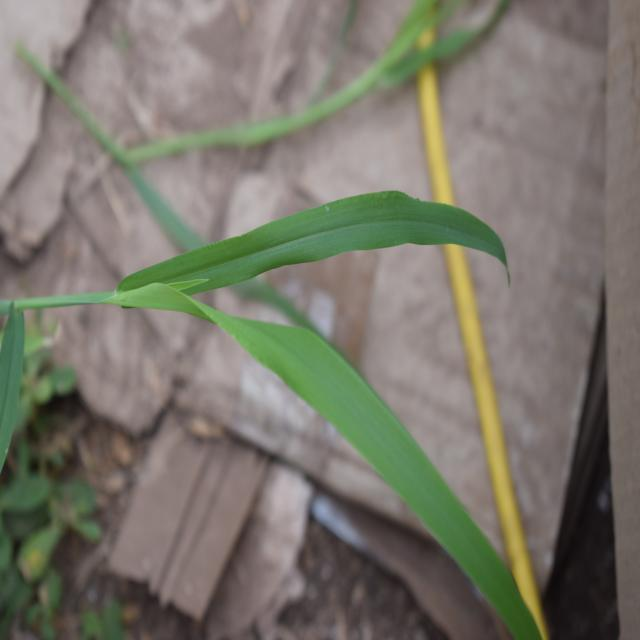crabgrass: (118, 196, 556, 604)
